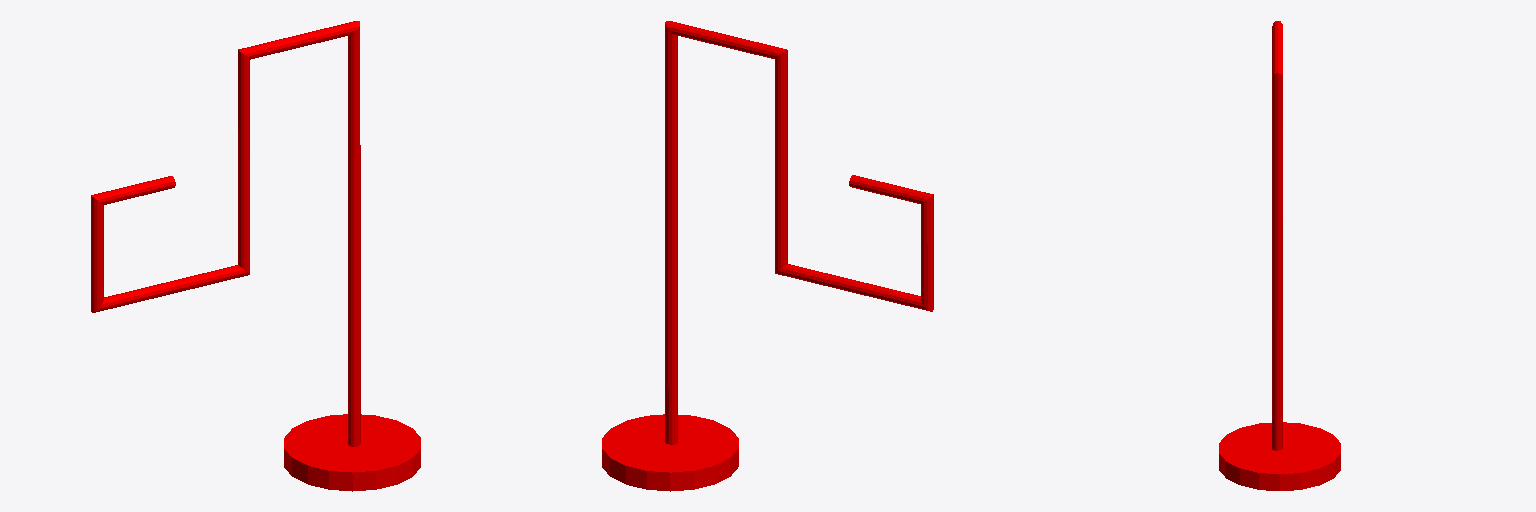
robot.urdf — ring:
<?xml version="0.0" ?>
<robot name="ring">
    <material name="white">
        <color rgba="1 0 0 1"/>
    </material>

    <link name="baseLink">
        <!-- from lego/lego.urdf -->
        <contact>
            <lateral_friction value="1.0"/>
            <rolling_friction value="0.0"/>
            <contact_cfm value="0.0"/>
            <contact_erp value="1.0"/>
        </contact>
        <inertial>
            <origin rpy="0 0 0" xyz="0 0 0"/>
            <mass value="0.01"/>
            <inertia ixx="1" ixy="0" ixz="0" iyy="1" iyz="0" izz="1"/>
        </inertial>
        <visual>
            <origin rpy="1.57 0 0" xyz="0 0 0"/>
            <geometry>
                <!--        radius: 10mm, depth: 14.5mm-->
                <mesh filename="meshes/d.obj" scale="1 1 1"/>
                <!--        <box size="0.002 0.002 0.002"/>-->
            </geometry>
            <material name="white"/>
        </visual>
        <collision>
            <origin rpy="1.57 0 0" xyz="0 0 0"/>
            <geometry>
                <mesh filename="meshes/d_vhacd.obj" scale="1 1 1"/>
                       <!-- <box size="2 2 2"/> -->
            </geometry>
        </collision>
    </link>
</robot>

--- Facts derived from the render (not from the file) ---
3 views of the same robot in one strip: view 1: azimuth 30°, elevation 25°; view 2: azimuth 150°, elevation 25°; view 3: azimuth 270°, elevation 25° (orthographic).
Model ring with 1 links and 0 joints (none), rooted at baseLink, posed every joint at zero.
Visible links, largest first — view 1: baseLink; view 2: baseLink; view 3: baseLink.
Boxes of the visible links, <box> form: baseLink: <box>91,21,420,491</box>; baseLink: <box>602,21,933,491</box>; baseLink: <box>1219,21,1340,490</box>.
Size in the robot's own frame: 0.0841 by 0.031 by 0.1099 metres.
Meshes: 1 distinct files referenced, 1 mesh visuals loaded (1 OBJ).